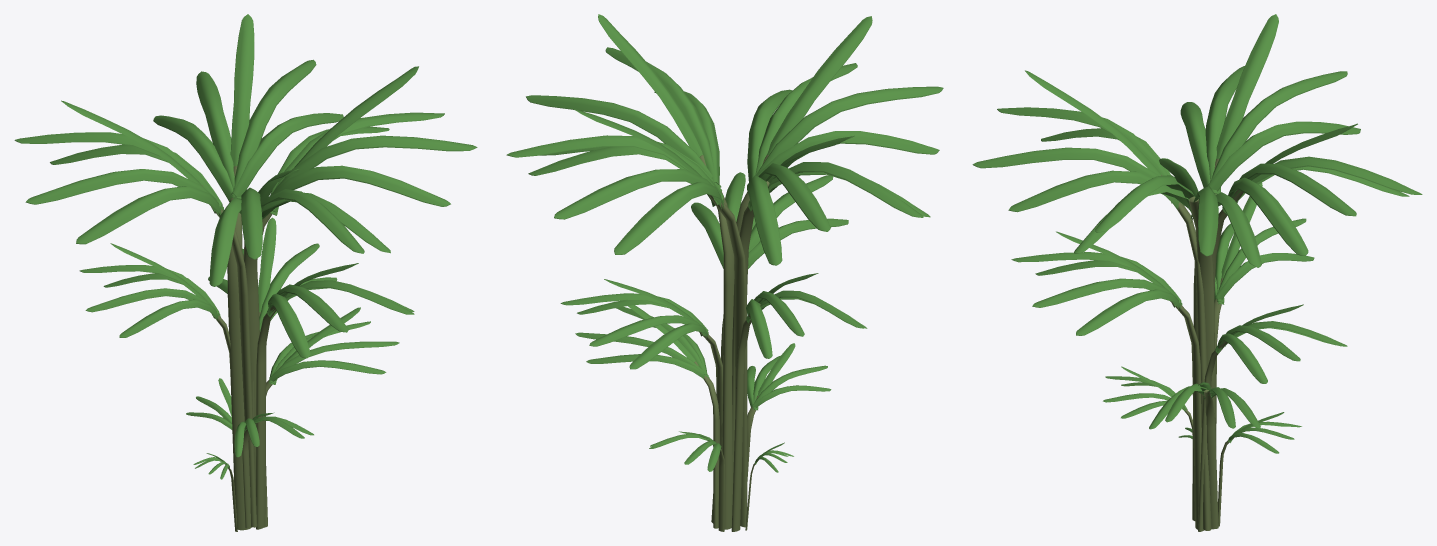
Rendered from TallFern2Update.fbx.
3 renders of one model, left to right at view 1: azimuth 30°, elevation 25°; view 2: azimuth 150°, elevation 25°; view 3: azimuth 270°, elevation 25°, orthographic. The views are drawn at different scales.
Visible parts, largest first — view 1: polySurface180; view 2: polySurface180; view 3: polySurface180.
Boxes of the visible parts, left/top/right/bottom form: polySurface180: left=14, top=14, right=477, bottom=531; polySurface180: left=506, top=14, right=943, bottom=531; polySurface180: left=972, top=14, right=1422, bottom=531.
Size of the model in its own units: 2.34 by 2.46 by 2.28.
